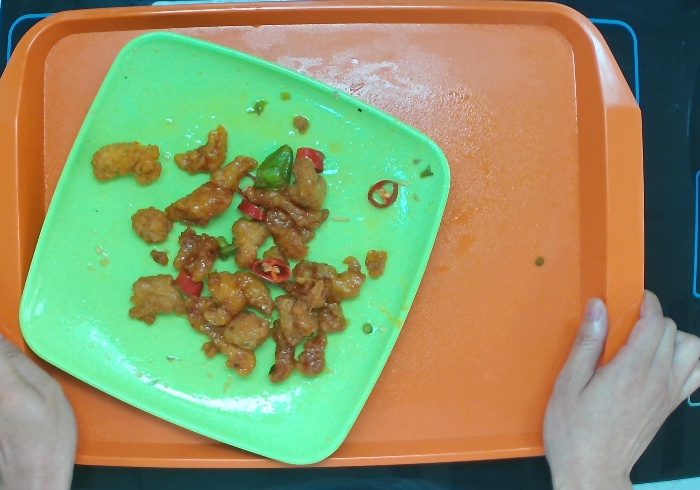ZNLD-Lv_Fang_Pan: (13, 27, 451, 472)
